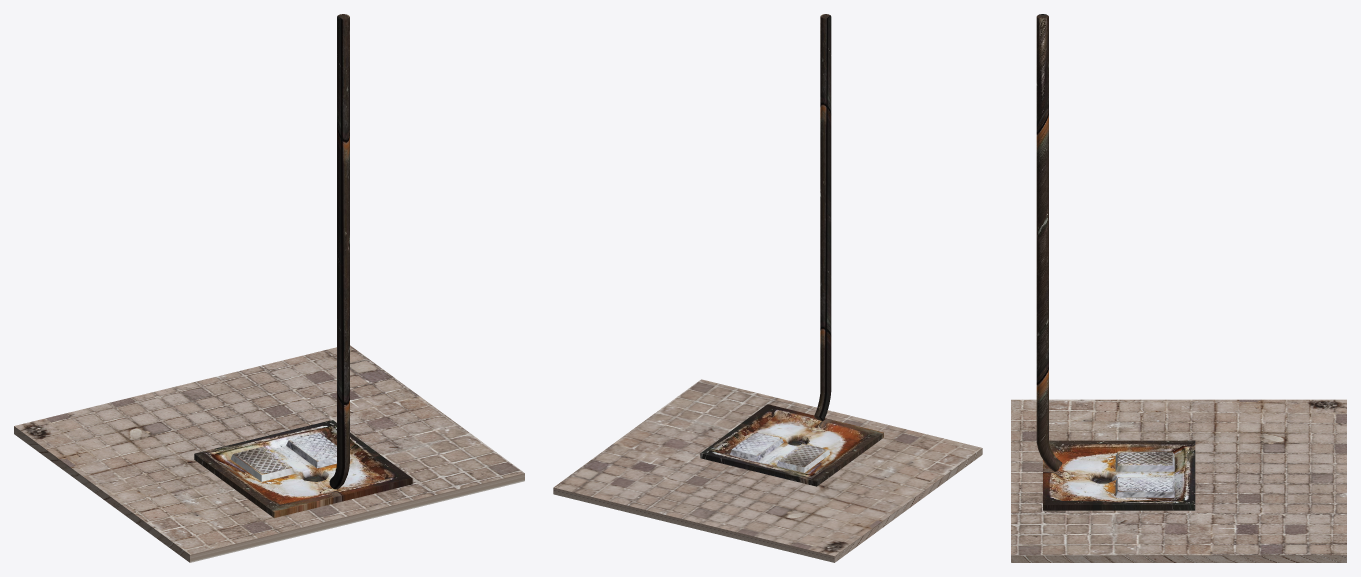
The model's file is SM_Scene_A_Toilettes01.fbx.
3 views of the same model, side by side, from view 1: azimuth 30°, elevation 25°; view 2: azimuth 150°, elevation 25°; view 3: azimuth 270°, elevation 25° (orthographic). The views are drawn at different scales.
Visible parts, largest first — view 1: SM_Scene_A_Toilettes01; view 2: SM_Scene_A_Toilettes01; view 3: SM_Scene_A_Toilettes01.
Boxes of the visible parts, x1,y1,x2,y2 form: SM_Scene_A_Toilettes01: (14, 14, 524, 562); SM_Scene_A_Toilettes01: (553, 14, 982, 562); SM_Scene_A_Toilettes01: (1011, 14, 1346, 562).
Size of the model in its own units: 284 by 404 by 258.
